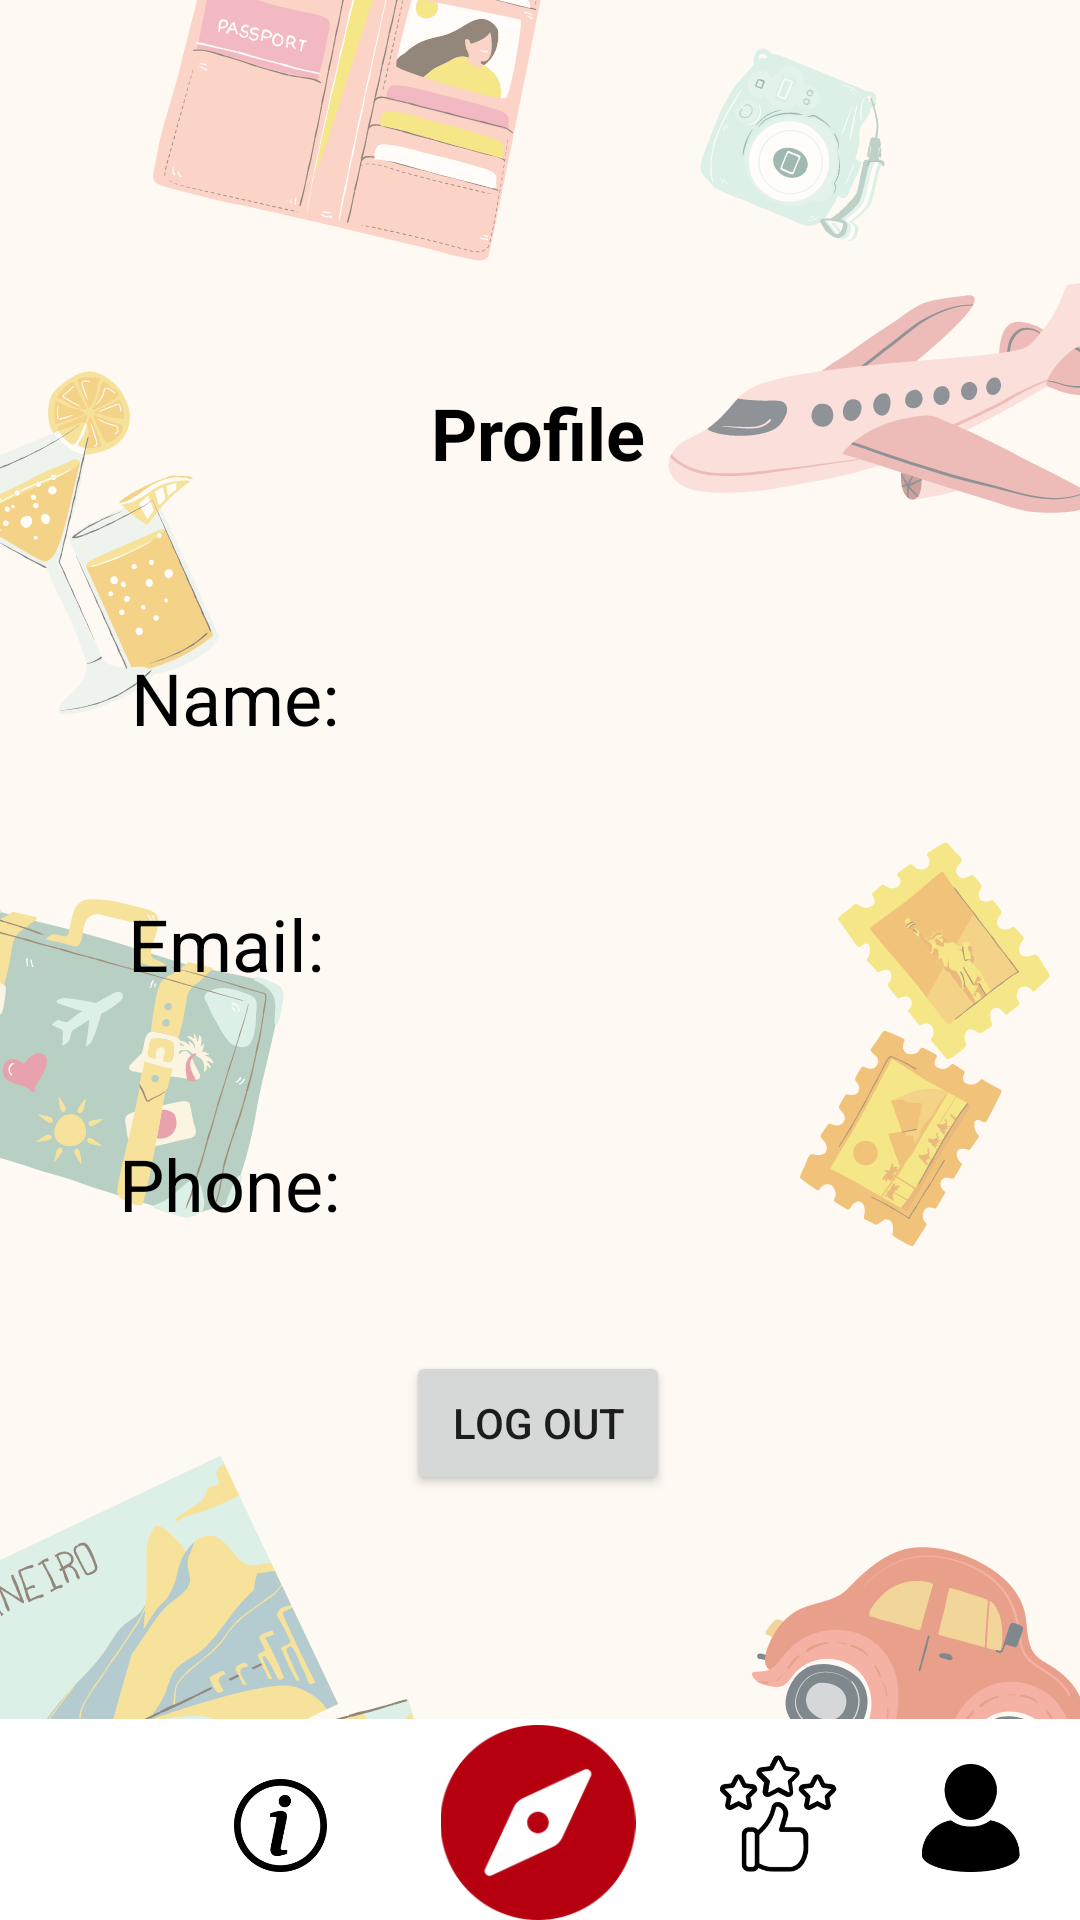

Locate icon controls on the screen. Image size 1080 × 1920, boxes as box=[x1, y1, x2, y2].
abouticon: box=[234, 1779, 327, 1872]
discovericon: box=[441, 1725, 636, 1920]
feedbackicon: box=[720, 1755, 837, 1872]
profileicon: box=[922, 1764, 1020, 1872]
